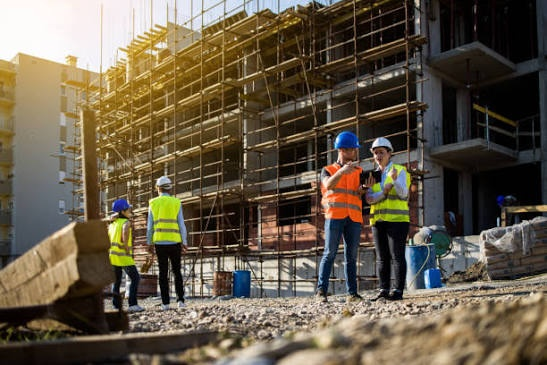hardhat: (327, 129, 366, 152), (151, 175, 183, 195), (370, 137, 400, 156), (108, 196, 136, 215)
person: (365, 132, 429, 309), (310, 127, 370, 310), (142, 170, 199, 313), (97, 192, 147, 315)
safety_vest: (317, 161, 365, 224), (370, 163, 415, 226), (149, 194, 187, 248), (104, 216, 139, 271)
